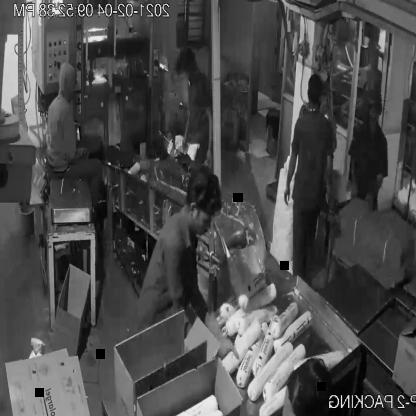glove: (202, 305, 245, 367)
no_glove: (279, 134, 299, 215), (320, 143, 338, 213), (199, 103, 215, 174), (365, 162, 385, 214), (177, 102, 193, 166)
